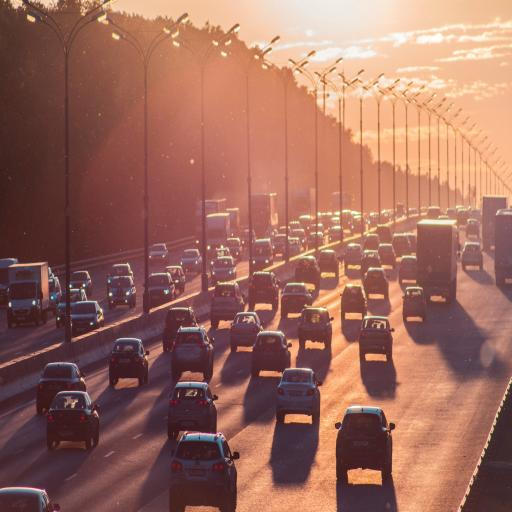car: (169, 432, 239, 511), (335, 406, 395, 481), (47, 391, 99, 449), (168, 381, 217, 439), (37, 363, 86, 414), (276, 369, 322, 423), (171, 327, 214, 379), (109, 338, 149, 385), (252, 331, 291, 377), (163, 307, 198, 351), (211, 282, 244, 328), (359, 317, 394, 360), (0, 487, 60, 511), (298, 307, 333, 348), (230, 312, 263, 351), (71, 301, 105, 337), (248, 272, 279, 311), (56, 289, 87, 327), (281, 283, 312, 317), (341, 284, 367, 320), (108, 276, 136, 308), (149, 273, 175, 307), (295, 256, 321, 289), (403, 287, 426, 322), (108, 264, 133, 294), (364, 268, 388, 298), (212, 256, 236, 285), (253, 239, 273, 270), (69, 271, 92, 297), (462, 242, 483, 270), (180, 249, 202, 274), (318, 250, 339, 276), (360, 251, 381, 277), (166, 266, 185, 293), (399, 256, 417, 284), (49, 277, 61, 315), (378, 244, 396, 269), (211, 248, 231, 270), (345, 243, 362, 268), (393, 234, 411, 257), (307, 225, 324, 249), (149, 244, 168, 264), (226, 238, 242, 260), (376, 224, 392, 243), (292, 229, 306, 250), (272, 234, 286, 254), (299, 215, 313, 235), (342, 210, 353, 234), (319, 212, 334, 229), (466, 219, 479, 237), (289, 238, 301, 257), (353, 215, 365, 233), (312, 219, 325, 235), (457, 208, 469, 225), (329, 226, 341, 243), (325, 217, 340, 230), (265, 227, 278, 241), (407, 233, 416, 253), (428, 207, 441, 219), (470, 208, 481, 222), (369, 213, 379, 228), (381, 210, 392, 223), (289, 221, 301, 232), (446, 208, 457, 219), (396, 203, 404, 218), (278, 226, 286, 234), (409, 208, 417, 215), (420, 207, 427, 214), (252, 230, 256, 242), (438, 215, 449, 219)
